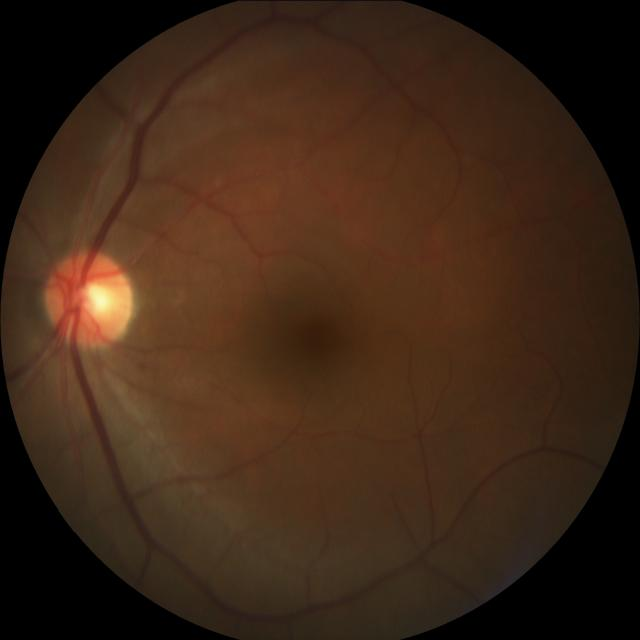OC: (72, 280, 115, 320)
OD: (46, 249, 135, 347)
